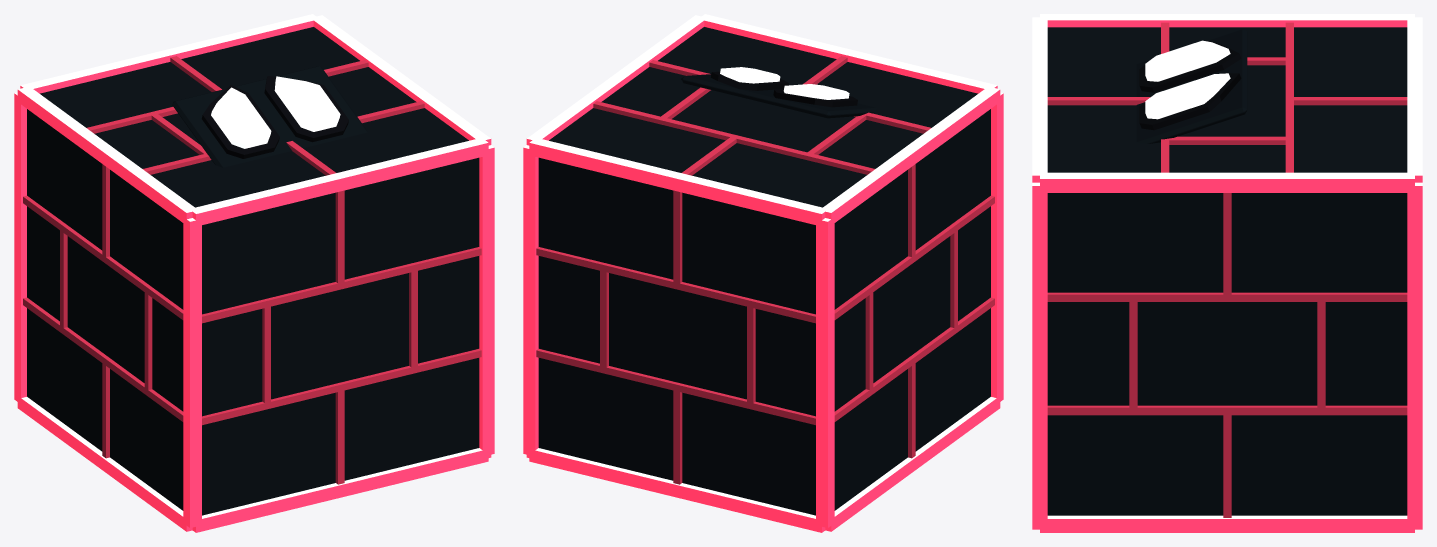
File: firewall.glb
3 views of the same model, side by side, from view 1: azimuth 30°, elevation 25°; view 2: azimuth 150°, elevation 25°; view 3: azimuth 270°, elevation 25° (orthographic). The views are drawn at different scales.
Parts seen in each view (by area): view 1: body-shell, firewall-edges, firewall-bricks, face-panel, eye-right, eye-left, eye-socket-right, eye-socket-left; view 2: body-shell, firewall-edges, firewall-bricks, face-panel, eye-left, eye-right, eye-socket-left, eye-socket-right; view 3: body-shell, firewall-edges, firewall-bricks, face-panel, eye-right, eye-left, eye-socket-right, eye-socket-left.
Part boxes in pixels (<box>): body-shell: <box>27,27,479,515</box>; firewall-edges: <box>14,14,494,532</box>; firewall-bricks: <box>23,56,481,484</box>; face-panel: <box>172,66,367,167</box>; eye-right: <box>274,76,340,131</box>; eye-left: <box>211,87,271,148</box>; eye-socket-right: <box>264,76,348,142</box>; eye-socket-left: <box>201,85,279,158</box>; body-shell: <box>538,27,990,515</box>; firewall-edges: <box>523,14,1003,532</box>; firewall-bricks: <box>536,56,994,484</box>; face-panel: <box>681,74,876,118</box>; eye-left: <box>783,84,849,99</box>; eye-right: <box>720,67,780,83</box>; eye-socket-left: <box>773,89,857,107</box>; eye-socket-right: <box>710,71,788,90</box>; body-shell: <box>1047,27,1407,515</box>; firewall-edges: <box>1032,14,1422,532</box>; firewall-bricks: <box>1047,22,1407,517</box>; face-panel: <box>1136,29,1247,143</box>; eye-right: <box>1145,73,1230,119</box>; eye-left: <box>1145,40,1230,81</box>; eye-socket-right: <box>1139,73,1241,130</box>; eye-socket-left: <box>1139,41,1241,92</box>.
Bounding box in the file's own units: 8.64 × 9.5 × 8.64.
